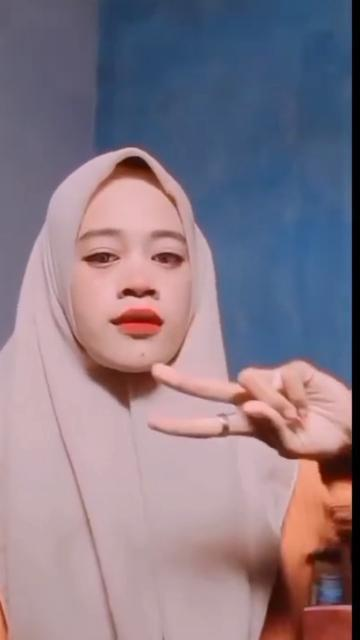H: (148, 358, 360, 466)
